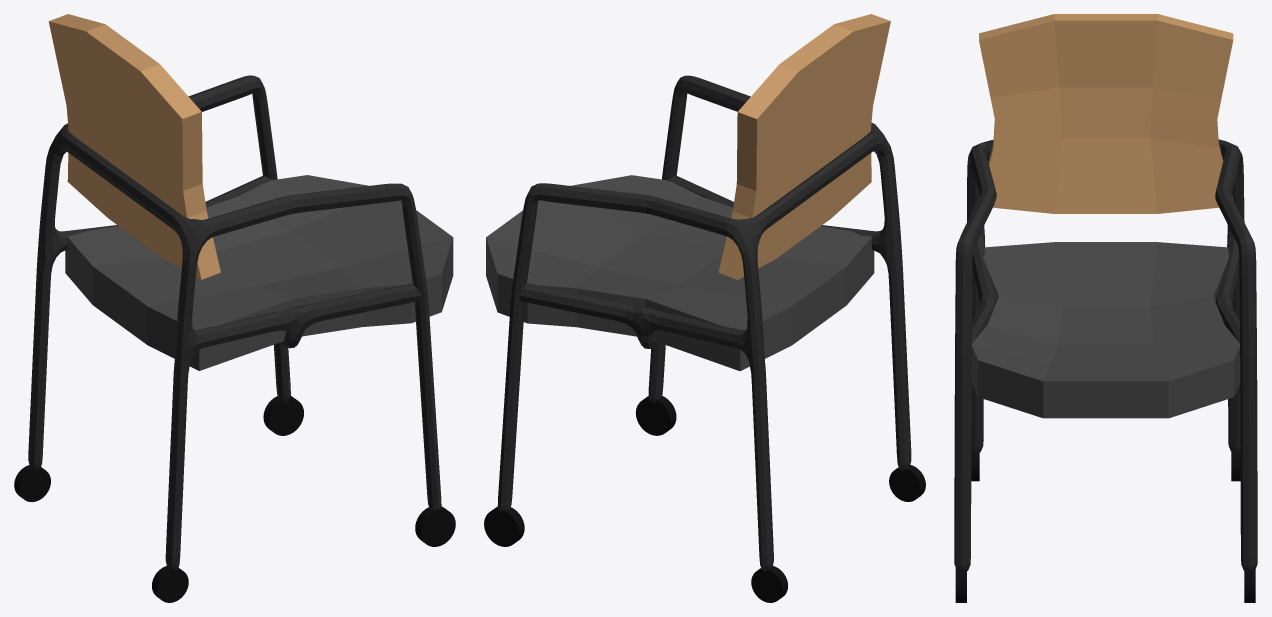
File: meetingroom chair.fbx
3 renders of one model, left to right at view 1: azimuth 30°, elevation 25°; view 2: azimuth 150°, elevation 25°; view 3: azimuth 270°, elevation 25°, orthographic. The views are drawn at different scales.
Visible parts, largest first — view 1: Cube.092, Cube.067, Cube.093, Cylinder.018, Cylinder.015, Cylinder.017, Cylinder.016; view 2: Cube.092, Cube.067, Cube.093, Cylinder.015, Cylinder.018, Cylinder.016, Cylinder.017; view 3: Cube.093, Cube.092, Cube.067, Cylinder.018, Cylinder.015.
Part boxes in pixels (left/top/right/bottom): Cube.092: left=65, top=175, right=453, bottom=370; Cube.067: left=28, top=75, right=441, bottom=570; Cube.093: left=48, top=14, right=220, bottom=279; Cylinder.018: left=415, top=506, right=455, bottom=546; Cylinder.015: left=263, top=396, right=303, bottom=435; Cylinder.017: left=152, top=566, right=188, bottom=602; Cylinder.016: left=14, top=465, right=50, bottom=502; Cube.092: left=486, top=175, right=874, bottom=371; Cube.067: left=497, top=75, right=911, bottom=571; Cube.093: left=718, top=14, right=890, bottom=279; Cylinder.015: left=484, top=506, right=524, bottom=546; Cylinder.018: left=636, top=396, right=676, bottom=435; Cylinder.016: left=751, top=566, right=787, bottom=602; Cylinder.017: left=889, top=465, right=925, bottom=501; Cube.093: left=979, top=14, right=1233, bottom=213; Cube.092: left=971, top=242, right=1240, bottom=418; Cube.067: left=954, top=139, right=1257, bottom=570; Cylinder.018: left=955, top=567, right=966, bottom=602; Cylinder.015: left=1244, top=568, right=1255, bottom=602.
Size of the model in its own units: 255 by 364 by 211.
